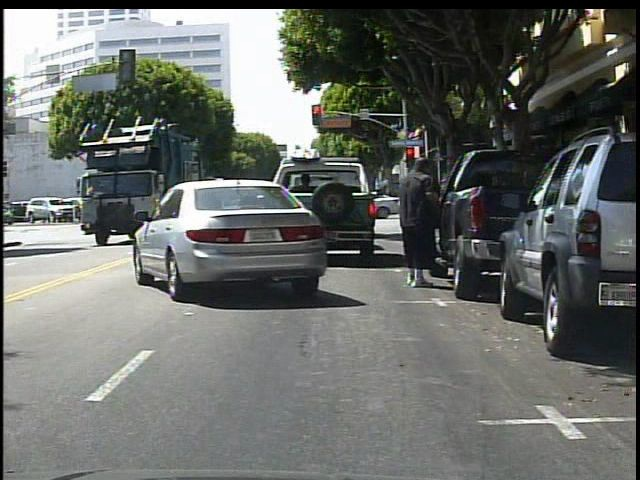person: (396, 153, 450, 290)
